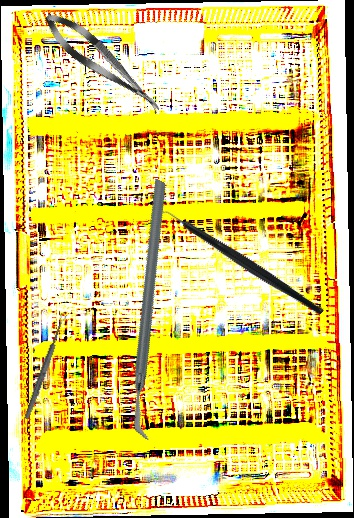Chopper: (41, 177, 264, 442), (149, 164, 325, 361)
Micro Scissor: (37, 4, 169, 122)
Surgical Spoon: (23, 313, 68, 420)
